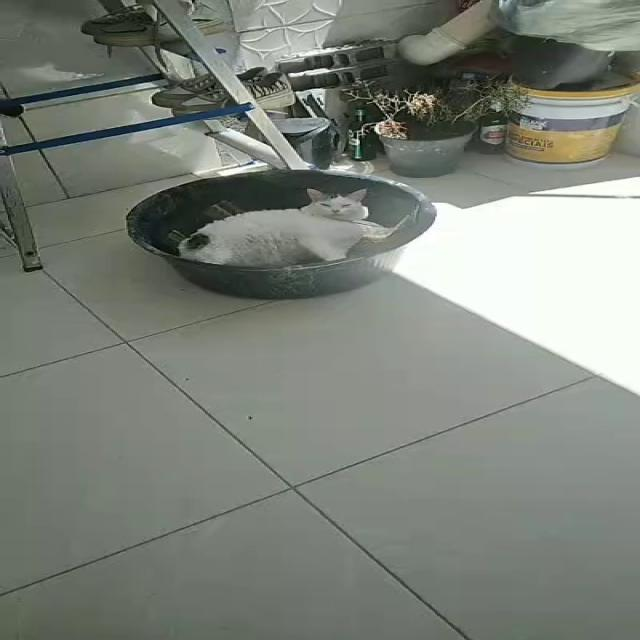Simba: (173, 184, 390, 270)
